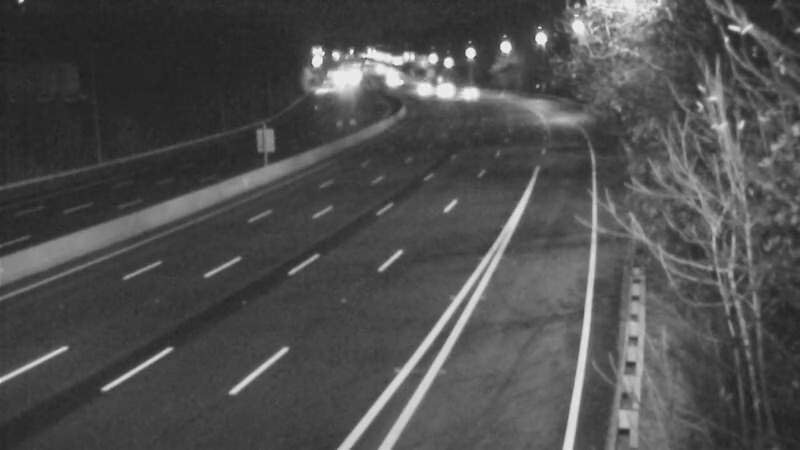vehicle: (363, 54, 413, 104), (391, 62, 441, 112), (417, 64, 467, 114), (442, 66, 492, 116)
